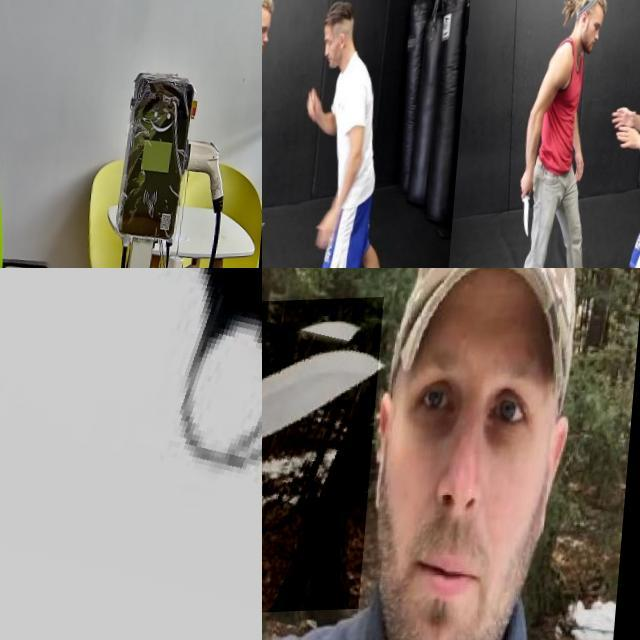-: (262, 299, 426, 621), (262, 0, 312, 147), (523, 175, 543, 242), (546, 0, 603, 17), (262, 210, 282, 237)
gun-knife-thesis - v11 Yolov5 augmented: (0, 268, 262, 640), (0, 0, 13, 98)
